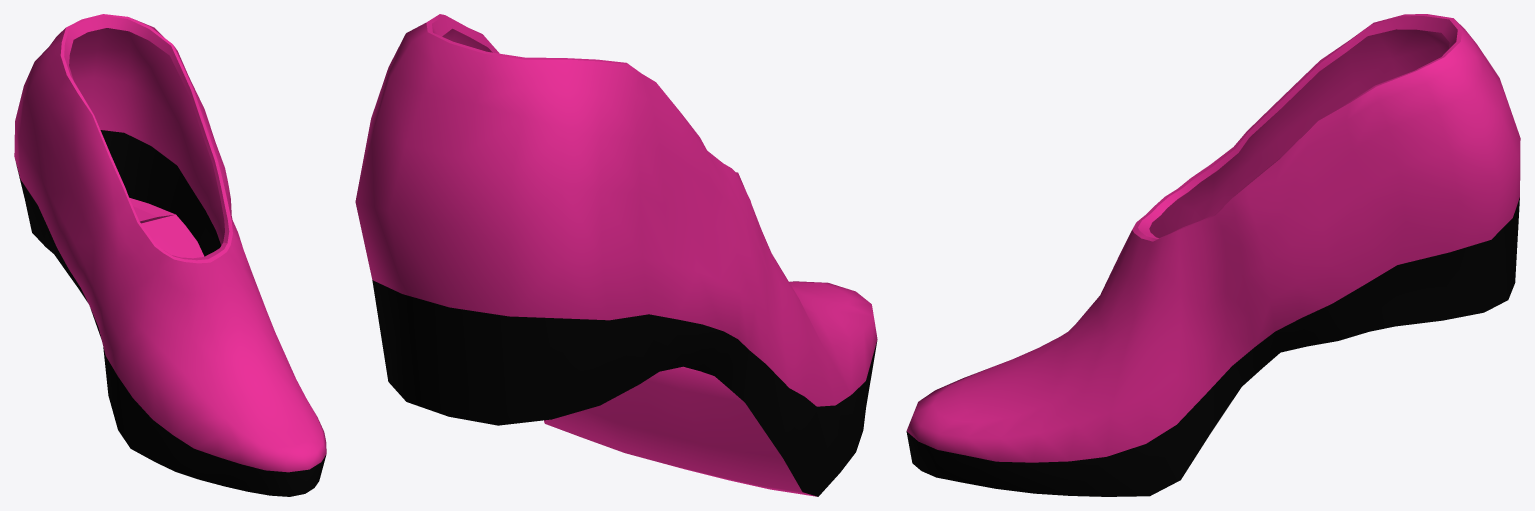
The model's file is sandle1.fbx.
3 renders of one model, left to right at view 1: azimuth 30°, elevation 25°; view 2: azimuth 150°, elevation 25°; view 3: azimuth 270°, elevation 25°, orthographic. The views are drawn at different scales.
Visible parts, largest first — view 1: Dancer1_Shoe_R__3356_Dancer1_Shoe_R_2; view 2: Dancer1_Shoe_R__3356_Dancer1_Shoe_R_2; view 3: Dancer1_Shoe_R__3356_Dancer1_Shoe_R_2.
Part boxes in pixels (bbox=[...]): Dancer1_Shoe_R__3356_Dancer1_Shoe_R_2: bbox=[14, 14, 326, 496]; Dancer1_Shoe_R__3356_Dancer1_Shoe_R_2: bbox=[355, 14, 877, 496]; Dancer1_Shoe_R__3356_Dancer1_Shoe_R_2: bbox=[906, 14, 1520, 496].
Bounding box in the file's own units: 10.89 × 22.27 × 28.59.
